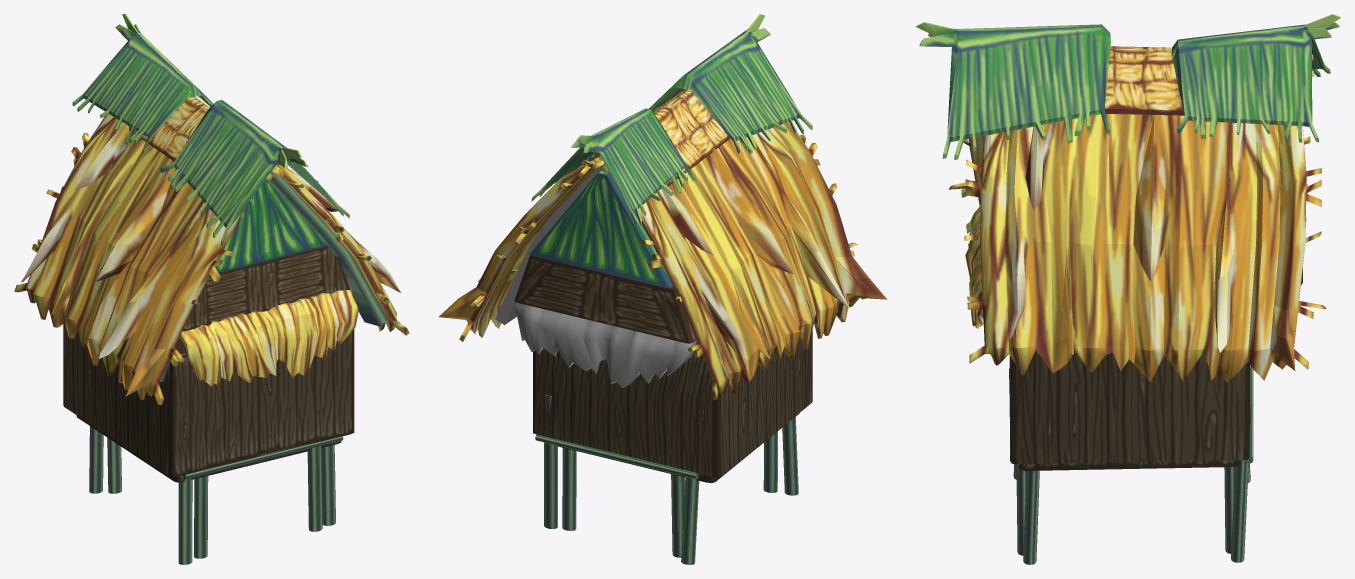
File: Maison I.FBX
3 views of the same model, side by side, from view 1: azimuth 30°, elevation 25°; view 2: azimuth 150°, elevation 25°; view 3: azimuth 270°, elevation 25° (orthographic). The views are drawn at different scales.
Parts seen in each view (by area): view 1: ModeleMaison1; view 2: ModeleMaison1; view 3: ModeleMaison1.
Boxes of the visible parts, x1,y1,x2,y2 form: ModeleMaison1: (14, 14, 409, 564); ModeleMaison1: (439, 14, 887, 564); ModeleMaison1: (916, 14, 1340, 564).
Bounding box in the file's own units: 299 × 401 × 306.
